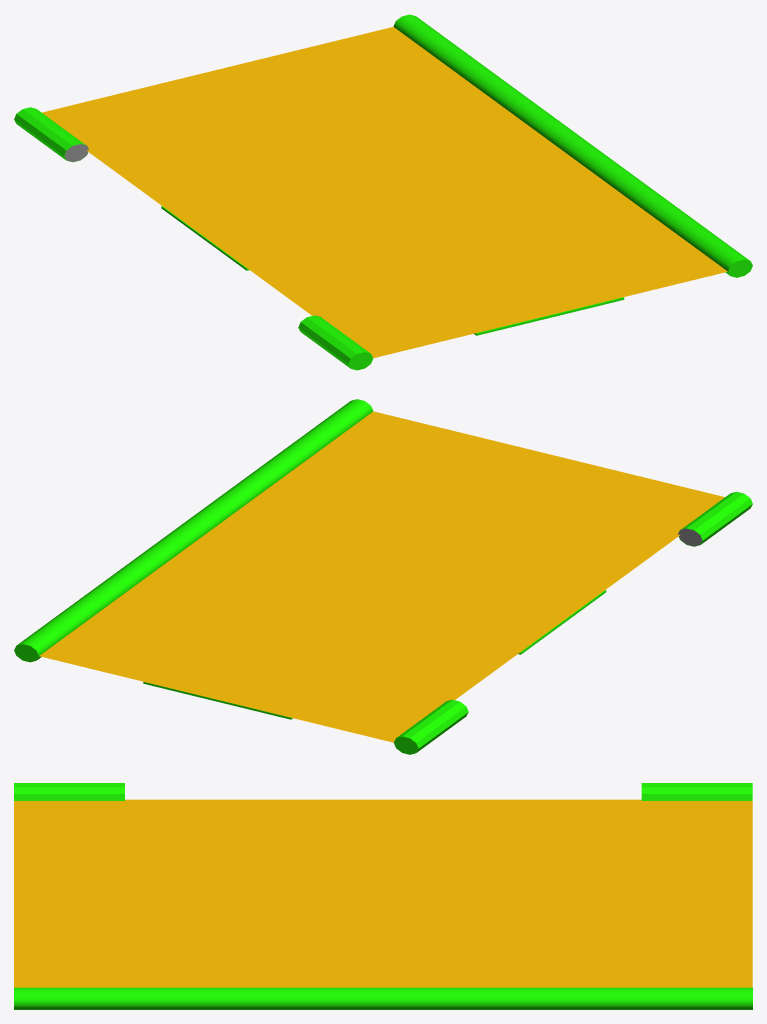
The model's file is Ramp T.FBX.
The picture shows the model from 3 angles, top to bottom: view 1: azimuth 30°, elevation 25°; view 2: azimuth 150°, elevation 25°; view 3: azimuth 270°, elevation 25°; orthographic projection. The views are drawn at different scales.
Parts seen in each view (by area): view 1: Plane002; view 2: Plane002; view 3: Plane002.
Part boxes in pixels (box(x1,y1,x2,y2)): Plane002: box(14, 14, 752, 370); Plane002: box(14, 399, 752, 754); Plane002: box(14, 783, 752, 1009).
Size of the model in its own units: 19.02 by 0.7425 by 27.25.
